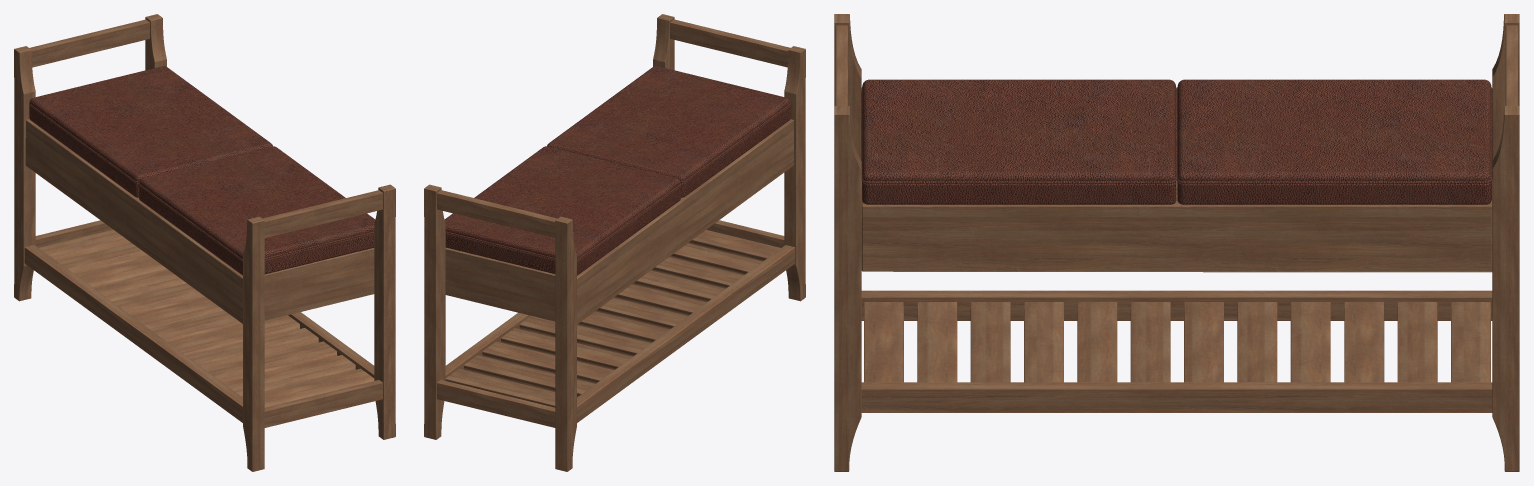
Rendered from sithall.glb.
3 views of the same model, side by side, from view 1: azimuth 30°, elevation 25°; view 2: azimuth 150°, elevation 25°; view 3: azimuth 270°, elevation 25° (orthographic). The views are drawn at different scales.
Parts seen in each view (by area): view 1: Skamia_prikhozh_N_Elegiya_Skamia_prikhozh_N_Elegiya_wood_0, Skamia_prikhozh_N_Elegiya_Skamia_prikhozh_N_Elegiya_leather_; view 2: Skamia_prikhozh_N_Elegiya_Skamia_prikhozh_N_Elegiya_wood_0, Skamia_prikhozh_N_Elegiya_Skamia_prikhozh_N_Elegiya_leather_; view 3: Skamia_prikhozh_N_Elegiya_Skamia_prikhozh_N_Elegiya_wood_0, Skamia_prikhozh_N_Elegiya_Skamia_prikhozh_N_Elegiya_leather_.
Boxes of the visible parts, x1,y1,x2,y2 form: Skamia_prikhozh_N_Elegiya_Skamia_prikhozh_N_Elegiya_wood_0: (14,14,395,471); Skamia_prikhozh_N_Elegiya_Skamia_prikhozh_N_Elegiya_leather_: (29,66,375,275); Skamia_prikhozh_N_Elegiya_Skamia_prikhozh_N_Elegiya_wood_0: (424,14,805,471); Skamia_prikhozh_N_Elegiya_Skamia_prikhozh_N_Elegiya_leather_: (444,66,790,275); Skamia_prikhozh_N_Elegiya_Skamia_prikhozh_N_Elegiya_wood_0: (834,14,1519,471); Skamia_prikhozh_N_Elegiya_Skamia_prikhozh_N_Elegiya_leather_: (861,79,1492,204).
Size of the model in its own units: 0.4105 by 0.6796 by 1.18.
2 materials, 2 textured.
